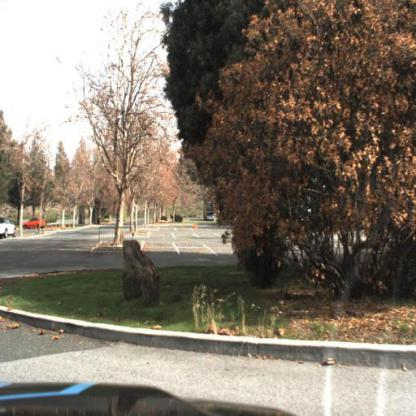car: (1, 215, 18, 244), (23, 215, 46, 233)
truck: (202, 199, 218, 224)
